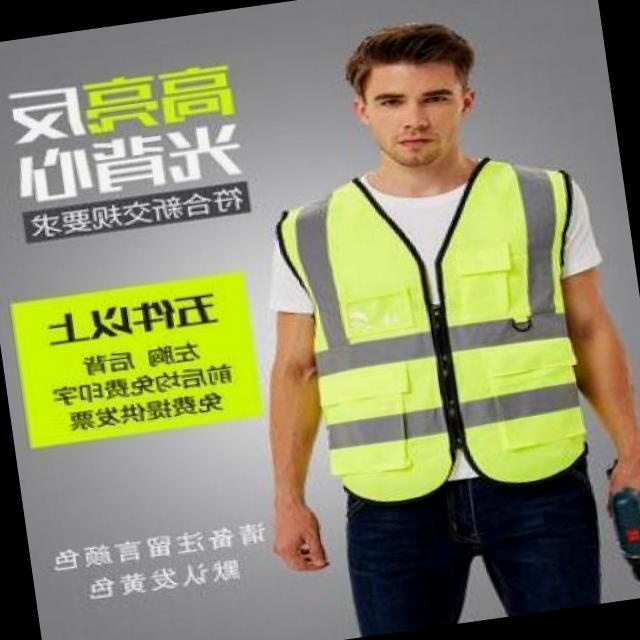no-gloves: (213, 367, 372, 619), (546, 331, 640, 552)
no-helmet: (312, 0, 510, 217)
vest: (270, 134, 628, 516)
